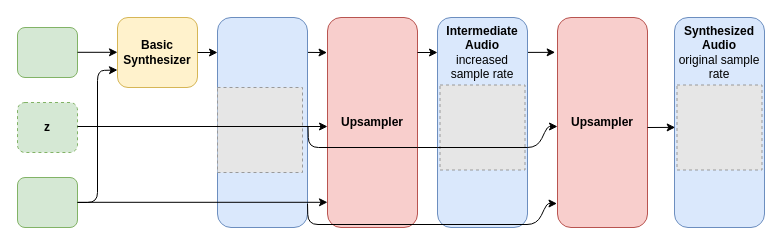
The diagram is 782 pixels wide and 250 high, and some of its shapes have lost their labels. Grey dashed boxes stand in for pictures. Here are the shapes that lost their labels. From the top down, the box of each, then its label:
(16, 26, 78, 78): F 0
(216, 16, 308, 228): Initial Audio low sample rate
(16, 176, 78, 228): loudness
